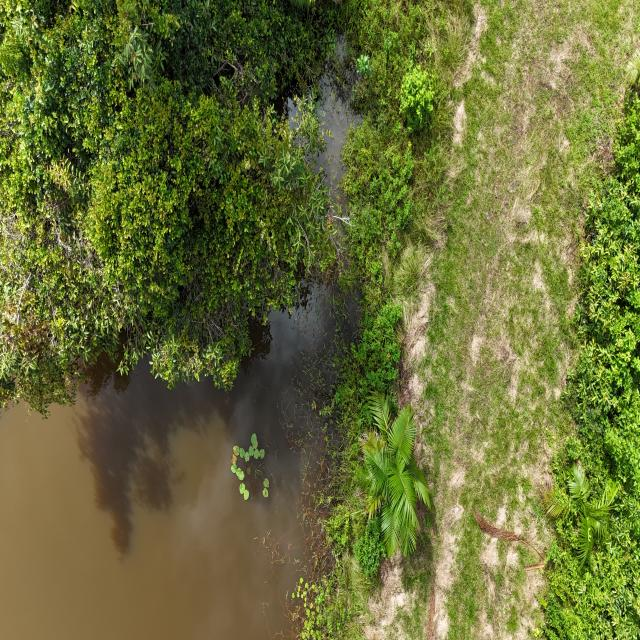vegetation: (0, 1, 343, 418), (536, 67, 639, 638), (355, 391, 432, 560)
